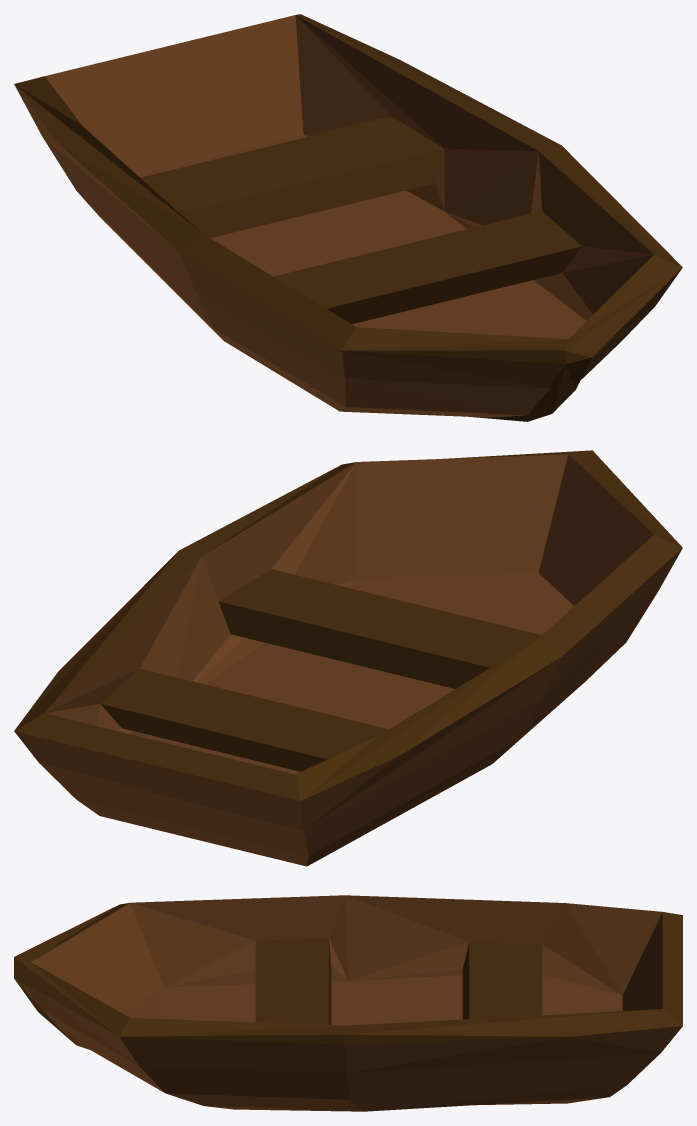
The model's file is motorboat.lod2.glb.
The picture shows the model from 3 angles, top to bottom: view 1: azimuth 30°, elevation 25°; view 2: azimuth 150°, elevation 25°; view 3: azimuth 270°, elevation 25°; orthographic projection. The views are drawn at different scales.
Parts seen in each view (by area): view 1: Boat_Material.001_0; view 2: Boat_Material.001_0; view 3: Boat_Material.001_0.
Boxes of the visible parts, x1,y1,x2,y2 form: Boat_Material.001_0: (14,14,682,421); Boat_Material.001_0: (14,450,682,866); Boat_Material.001_0: (14,895,682,1111).
Bounding box in the file's own units: 2.31 × 0.8229 × 4.4.
